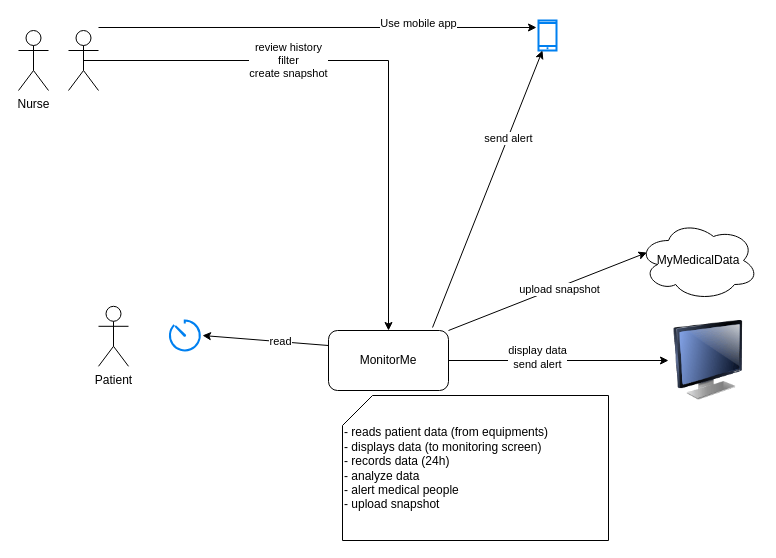
This 776x558 diagram has some shape labels left out. The shapes that lost their labels are listed below. From the top down, each one's centre as x and y in pixels, then its label:
At [83,60]: "Doctor".
At [184,335]: "Monitoring equipment".
